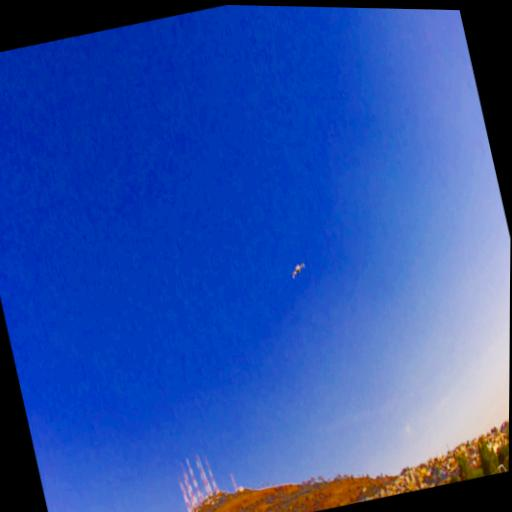drones: (283, 257, 312, 289)
